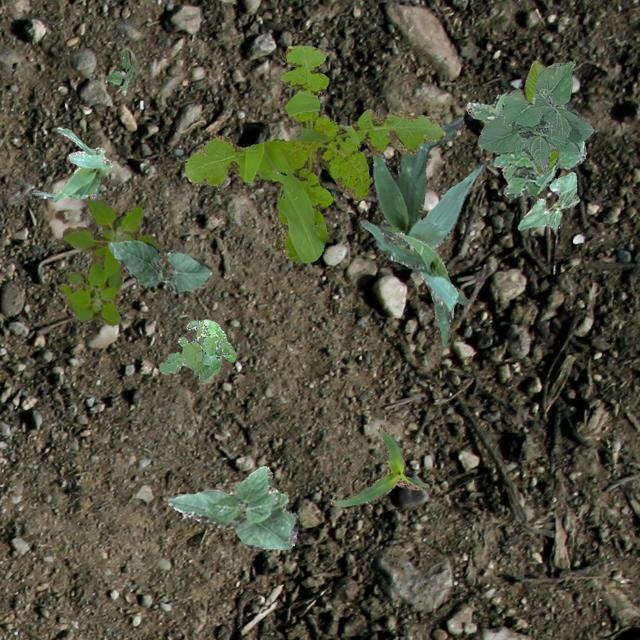crop: (372, 116, 484, 304), (477, 59, 592, 172), (359, 218, 456, 346), (166, 464, 298, 548), (330, 424, 428, 506), (32, 127, 112, 200), (106, 238, 210, 292), (516, 170, 578, 230), (524, 60, 556, 174)
weed: (184, 45, 444, 262), (57, 198, 162, 326), (464, 92, 586, 196), (157, 318, 235, 381), (104, 49, 132, 90)
